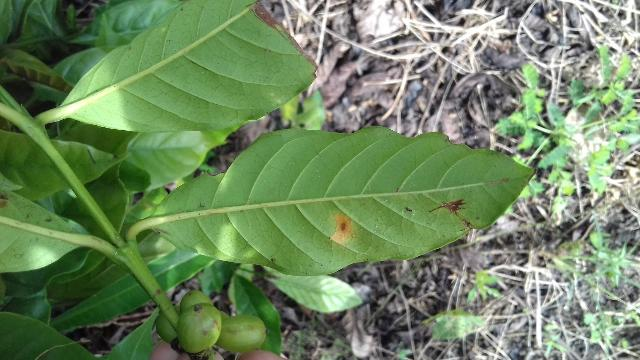rust_level_1: (129, 118, 545, 278)
